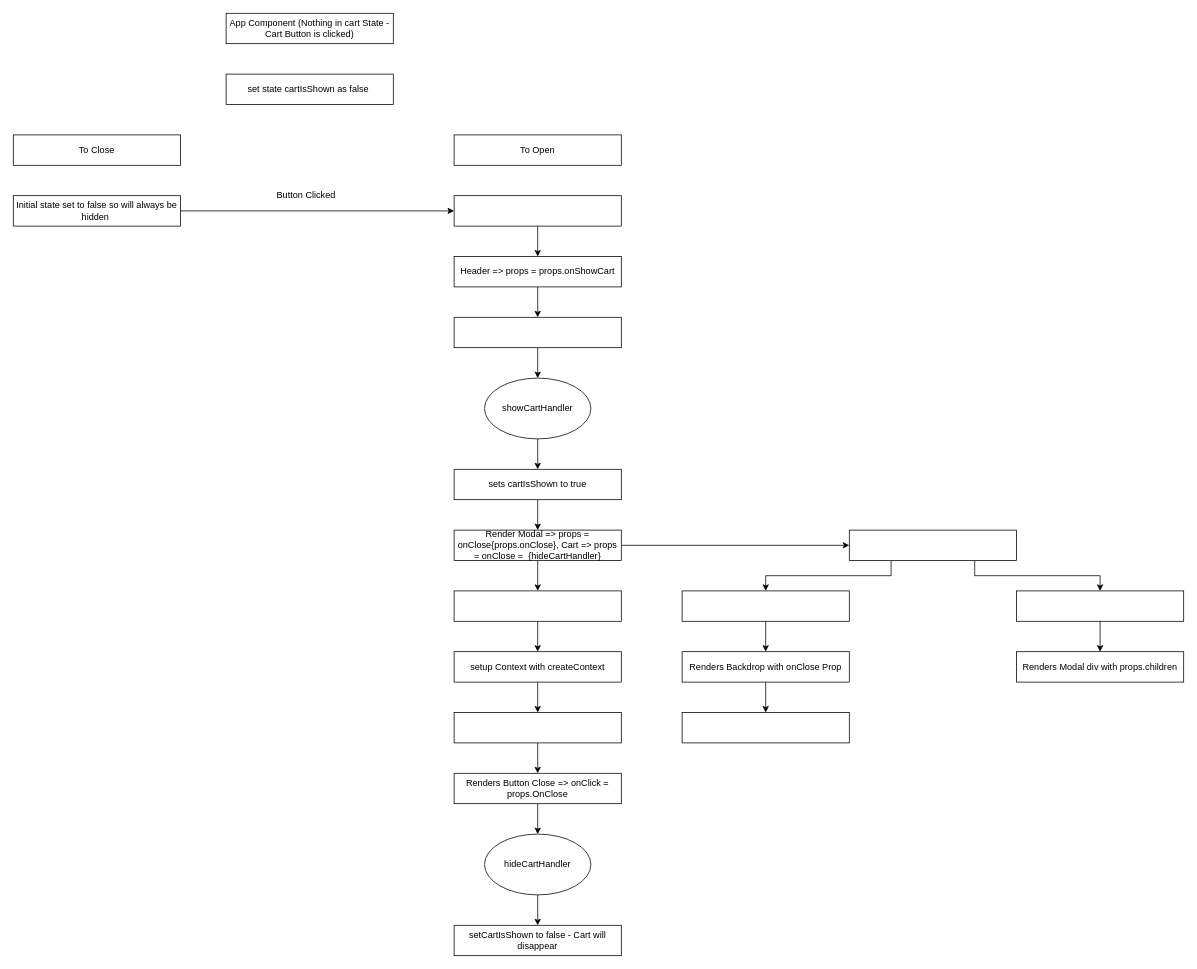
The diagram is 1197 pixels wide and 969 high, and some of its shapes have lost their labels. Each missing label, with the centre of its shape:
App => props = onShowCart = showCartHandler: point (537, 332)
Backdrop: point (765, 605)
Cart: point (537, 605)
Ensures that when backdrop is pressed Modal closes: point (765, 727)
hasItems has value if items.length > 0: point (537, 727)
HeaderCartButton => props = props.onClick: point (537, 210)
Modal: point (932, 544)
ModalOverlay: point (1100, 605)
